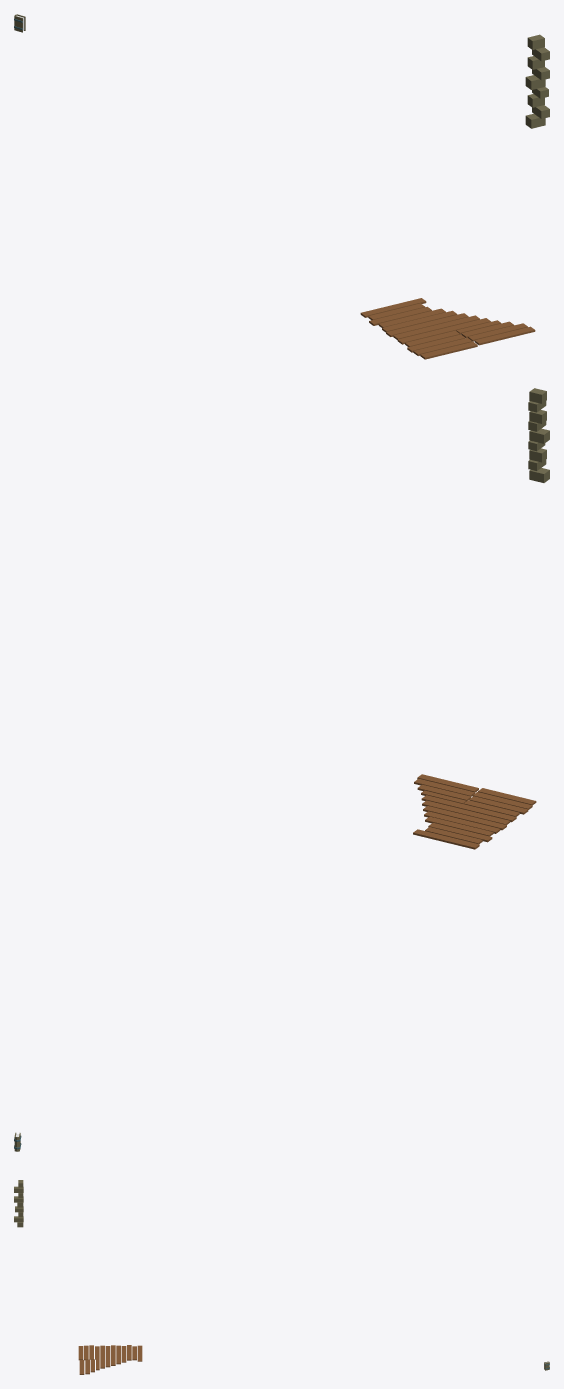
3 views of the same model, one above another, from view 1: azimuth 30°, elevation 25°; view 2: azimuth 150°, elevation 25°; view 3: azimuth 270°, elevation 25° (orthographic). The views are drawn at different scales.
Visible parts, largest first — view 1: Plane288_brown_0, Box15750_rock2_0; view 2: Plane288_brown_0, Box15750_rock2_0; view 3: Plane288_brown_0, Box15750_rock2_0.
Boxes of the visible parts, left/top/right/bottom form: Plane288_brown_0: left=360, top=298, right=535, bottom=359; Box15750_rock2_0: left=525, top=34, right=549, bottom=128; Plane288_brown_0: left=413, top=774, right=536, bottom=849; Box15750_rock2_0: left=528, top=388, right=549, bottom=482; Plane288_brown_0: left=78, top=1345, right=142, bottom=1374; Box15750_rock2_0: left=14, top=1180, right=23, bottom=1227.
Bounding box in the file's own units: 532 × 1625 × 4186.
